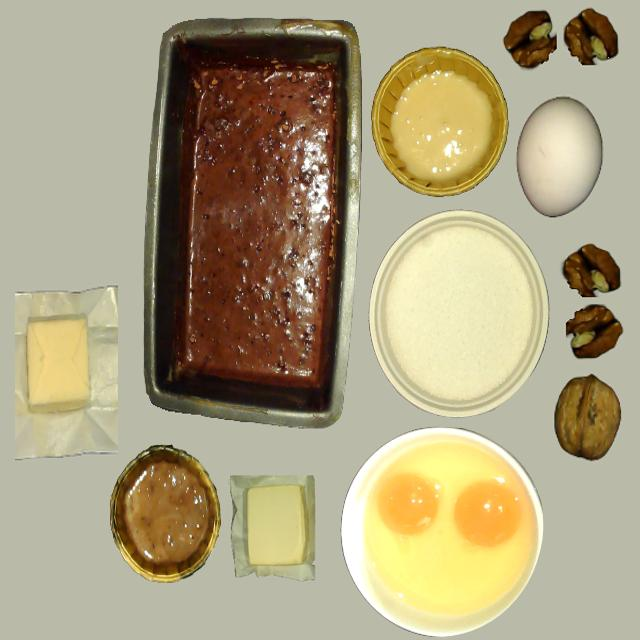Egg: (453, 480, 521, 548), (378, 474, 440, 537)
Sugar: (369, 210, 548, 418)
Walnut: (554, 376, 620, 458)
